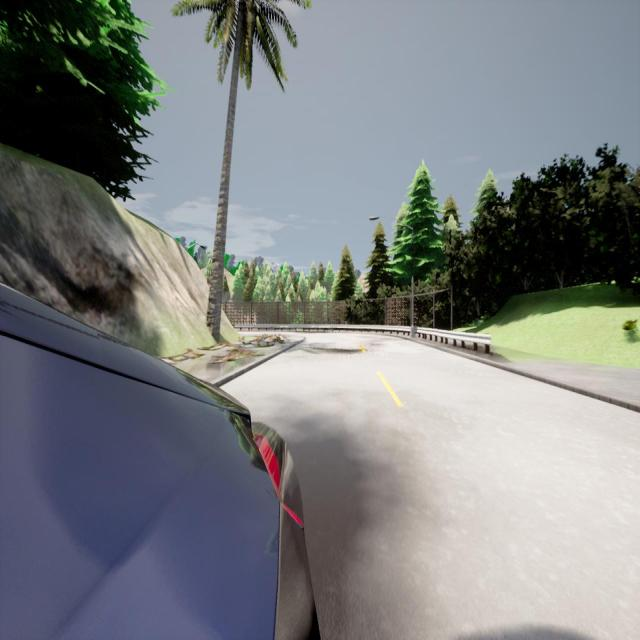Vehicle: (0, 282, 323, 640)
